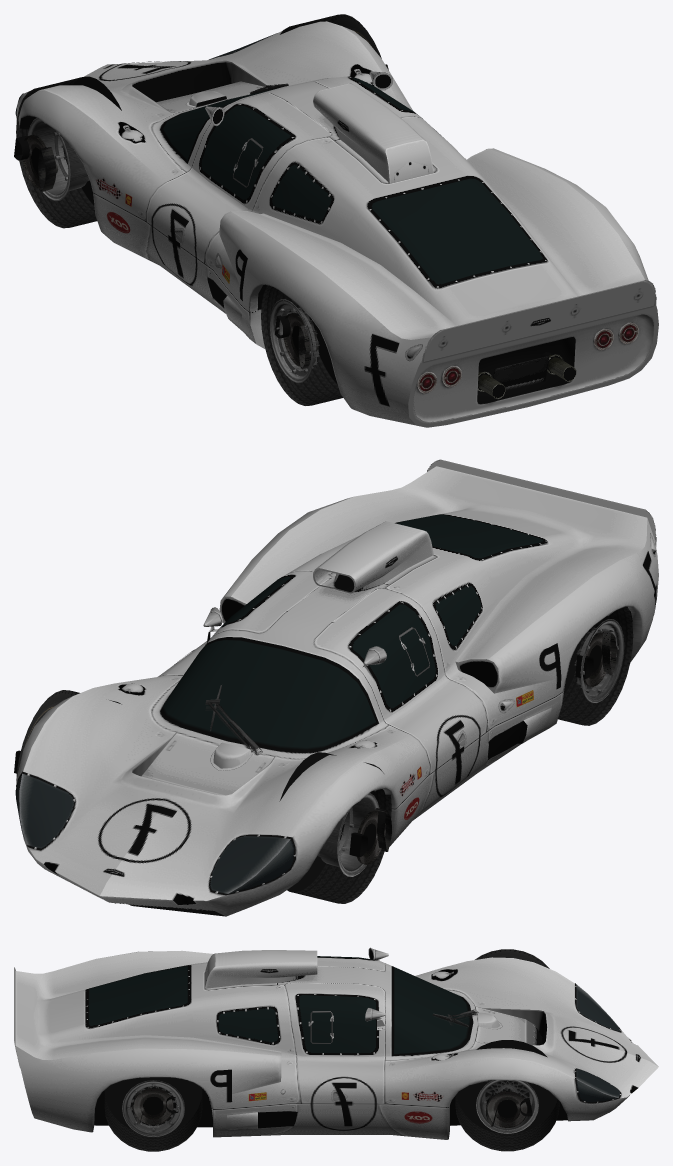
The model's file is GT4_CHAP0001.glb.
The picture shows the model from 3 angles, top to bottom: view 1: azimuth 30°, elevation 25°; view 2: azimuth 150°, elevation 25°; view 3: azimuth 270°, elevation 25°; orthographic projection. The views are drawn at different scales.
Parts seen in each view (by area): view 1: body, tire_front_right, tire_rear_right, wheel_rear_right, wheel_front_right, tire_rear_left; view 2: body, tire_rear_right, tire_front_right, wheel_rear_right, wheel_front_right, tire_rear_left; view 3: body, tire_rear_left, tire_front_left, wheel_front_left, wheel_rear_left, tire_rear_right.
Part boxes in pixels (bbox=[...]): body: bbox=[14, 21, 658, 427]; tire_front_right: bbox=[261, 285, 342, 405]; tire_rear_right: bbox=[16, 76, 121, 228]; wheel_rear_right: bbox=[28, 118, 89, 200]; wheel_front_right: bbox=[270, 299, 319, 383]; tire_rear_left: bbox=[280, 14, 381, 58]; body: bbox=[14, 459, 658, 916]; tire_rear_right: bbox=[279, 752, 391, 903]; tire_front_right: bbox=[558, 606, 633, 725]; wheel_rear_right: bbox=[317, 793, 379, 876]; wheel_front_right: bbox=[574, 619, 624, 703]; tire_rear_left: bbox=[16, 690, 121, 787]; body: bbox=[14, 947, 658, 1139]; tire_rear_left: bbox=[455, 1040, 559, 1151]; tire_front_left: bbox=[104, 1077, 202, 1151]; wheel_front_left: bbox=[122, 1080, 184, 1137]; wheel_rear_left: bbox=[476, 1080, 538, 1133]; tire_rear_right: bbox=[475, 949, 549, 968].
Bounding box in the file's own units: 1.9 × 1.02 × 4.21.
Materials: 42 (42 with a texture image).
